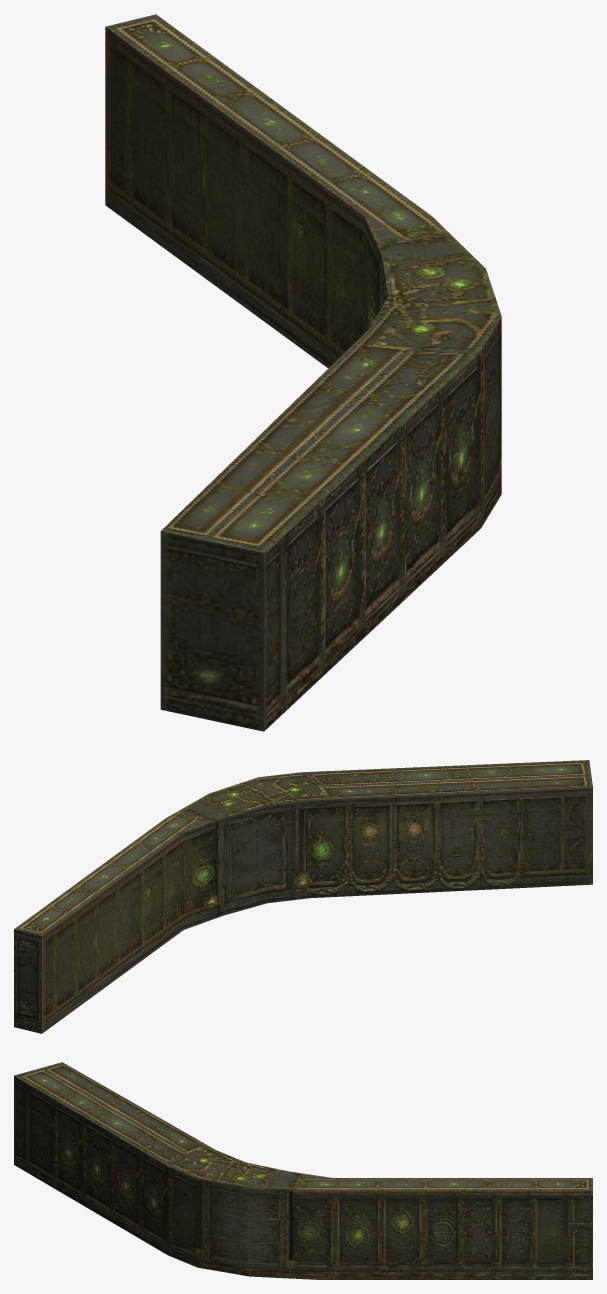
The model's file is ramp_pale_down_right_lvl_1.glb.
The picture shows the model from 3 angles, top to bottom: view 1: azimuth 30°, elevation 25°; view 2: azimuth 150°, elevation 25°; view 3: azimuth 270°, elevation 25°; orthographic projection. The views are drawn at different scales.
Visible parts, largest first — view 1: Mesh_0.002; view 2: Mesh_0.002; view 3: Mesh_0.002.
Part boxes in pixels (x1=…): Mesh_0.002: x1=105, y1=14, x2=501, y2=731; Mesh_0.002: x1=14, y1=760, x2=592, y2=1033; Mesh_0.002: x1=14, y1=1062, x2=592, y2=1279.
Bounding box in the file's own units: 0.1284 × 0.0417 × 0.2447.
Materials: 1 (1 with a texture image).
